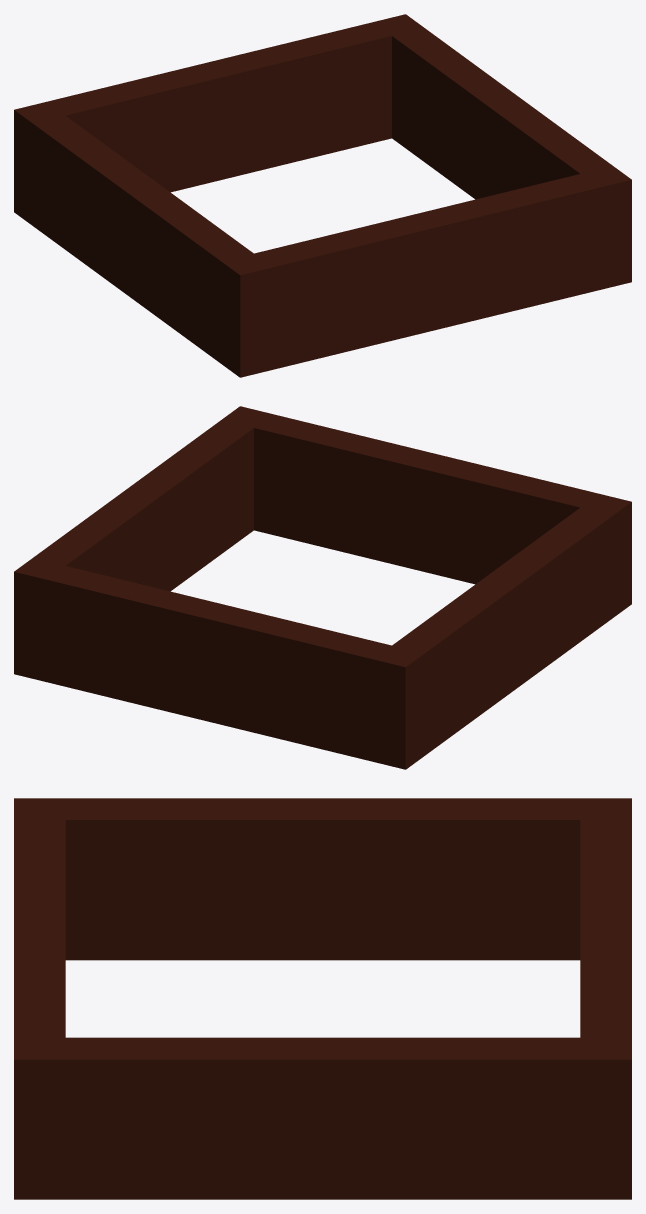
Rendered from Arenadindingluar.FBX.
The picture shows the model from 3 angles, top to bottom: view 1: azimuth 30°, elevation 25°; view 2: azimuth 150°, elevation 25°; view 3: azimuth 270°, elevation 25°; orthographic projection. The views are drawn at different scales.
Visible parts, largest first — view 1: Box026, Box027, Box029, Box028; view 2: Box027, Box026, Box029, Box028; view 3: Box028, Box029, Box027, Box026.
Boxes of the visible parts, bbox=[...] form: Box026: bbox=[221, 166, 631, 377]; Box027: bbox=[14, 14, 423, 225]; Box029: bbox=[14, 102, 272, 376]; Box028: bbox=[374, 15, 631, 282]; Box027: bbox=[14, 558, 424, 769]; Box026: bbox=[222, 406, 631, 617]; Box029: bbox=[373, 494, 631, 769]; Box028: bbox=[14, 406, 271, 681]; Box028: bbox=[14, 1037, 631, 1199]; Box029: bbox=[14, 798, 631, 960]; Box027: bbox=[580, 798, 631, 1199]; Box026: bbox=[14, 798, 65, 1199].
Bounding box in the file's own units: 240 × 60 × 240.
